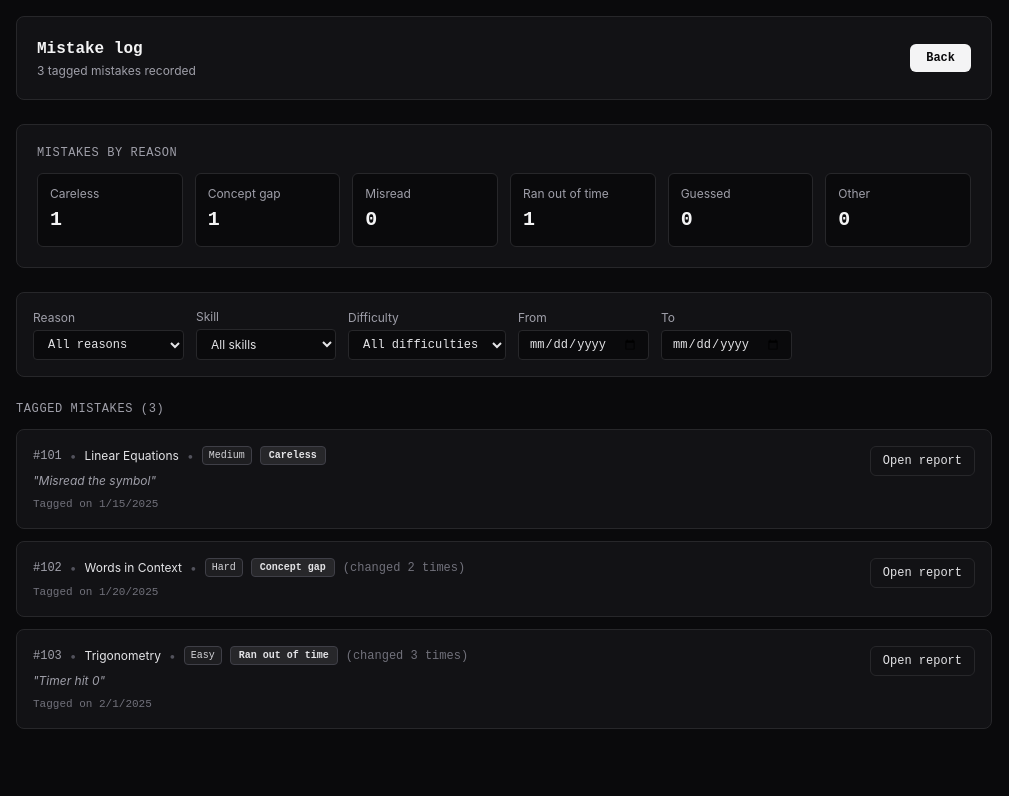
Test: MistakeLogScreen › filters by skill
Select "Words in Context" in the dropdown named "Filter by skill" at (266, 344), box left=196, top=329, right=336, bottom=360
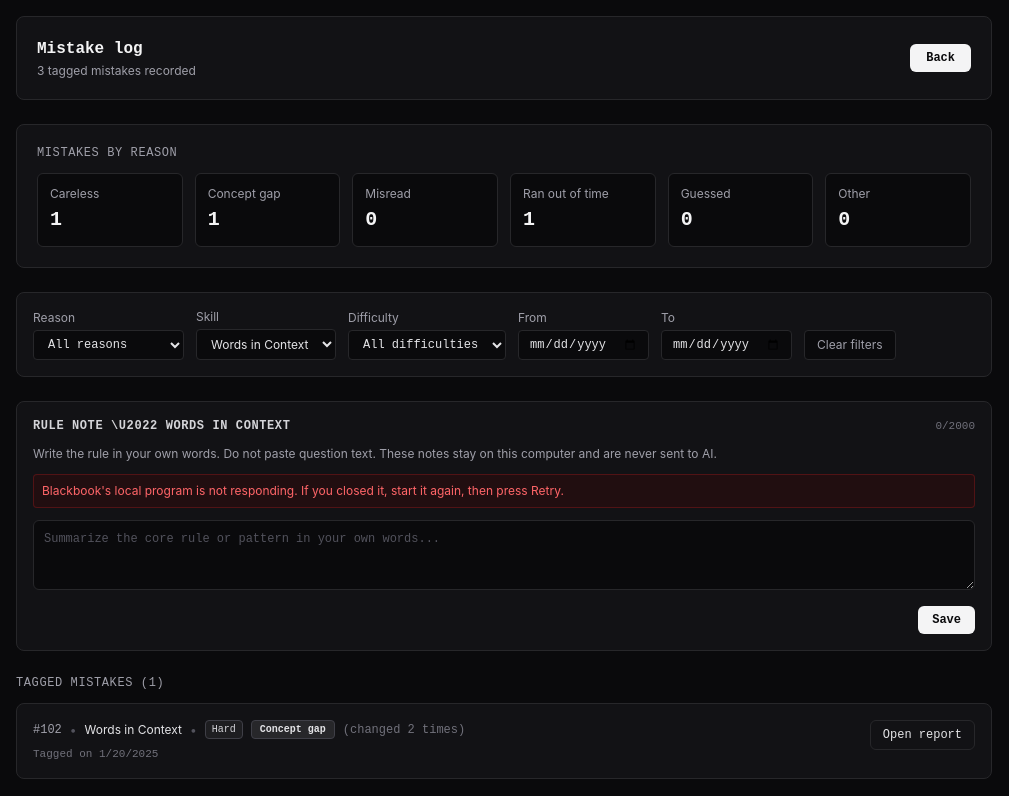
Expected: the text "#102" is shown, left=33, top=722, right=62, bottom=738
Expected: the text "#101" is gone
Expected: the text "#103" is gone
